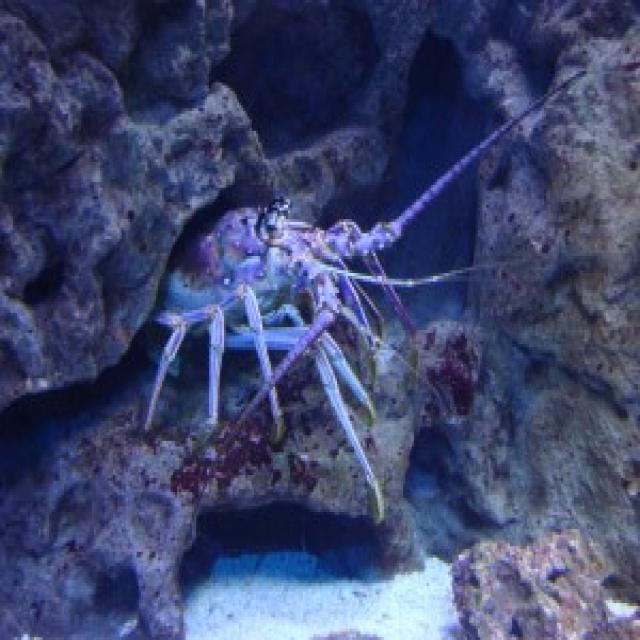lobsters: (131, 72, 492, 508)
